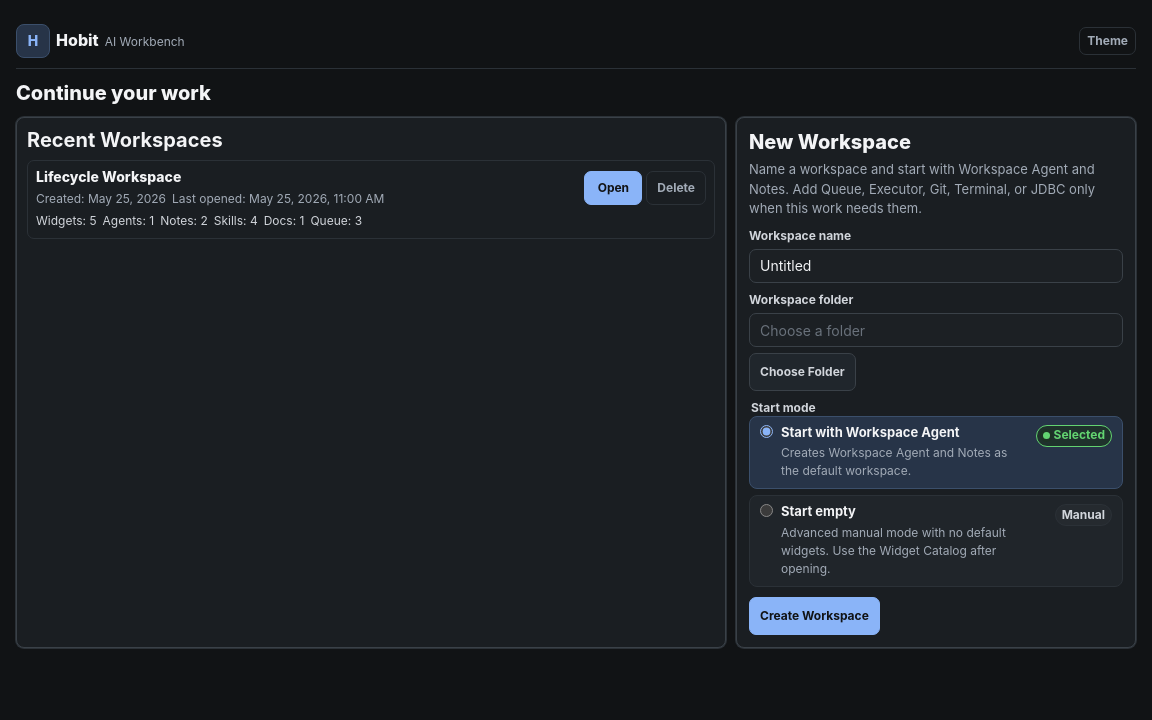
it: App workspace lifecycle › closes an opened workspace back to the start screen without deleting data
Click the button "Open": (613, 188) [584,171,642,205]
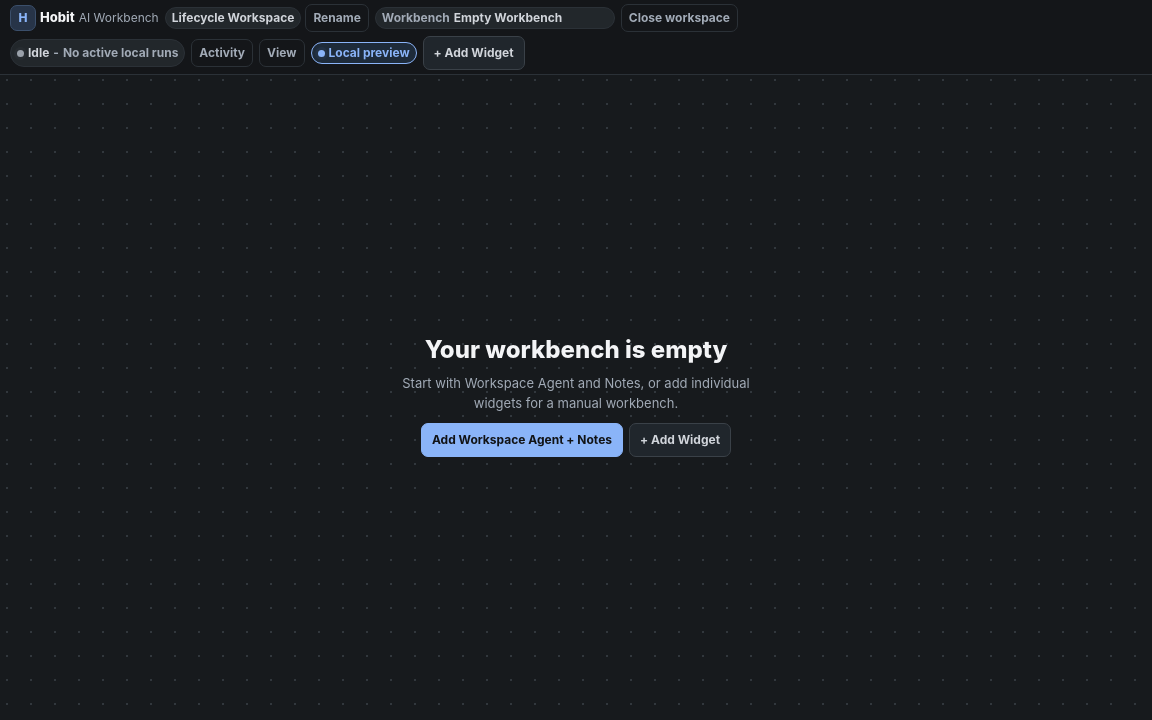
Check: the text "Lifecycle Workspace" is shown, box [172,11,294,25]
Check: the text "Close workspace" is shown
Click the button "Close workspace": (679, 18) [621,4,738,32]
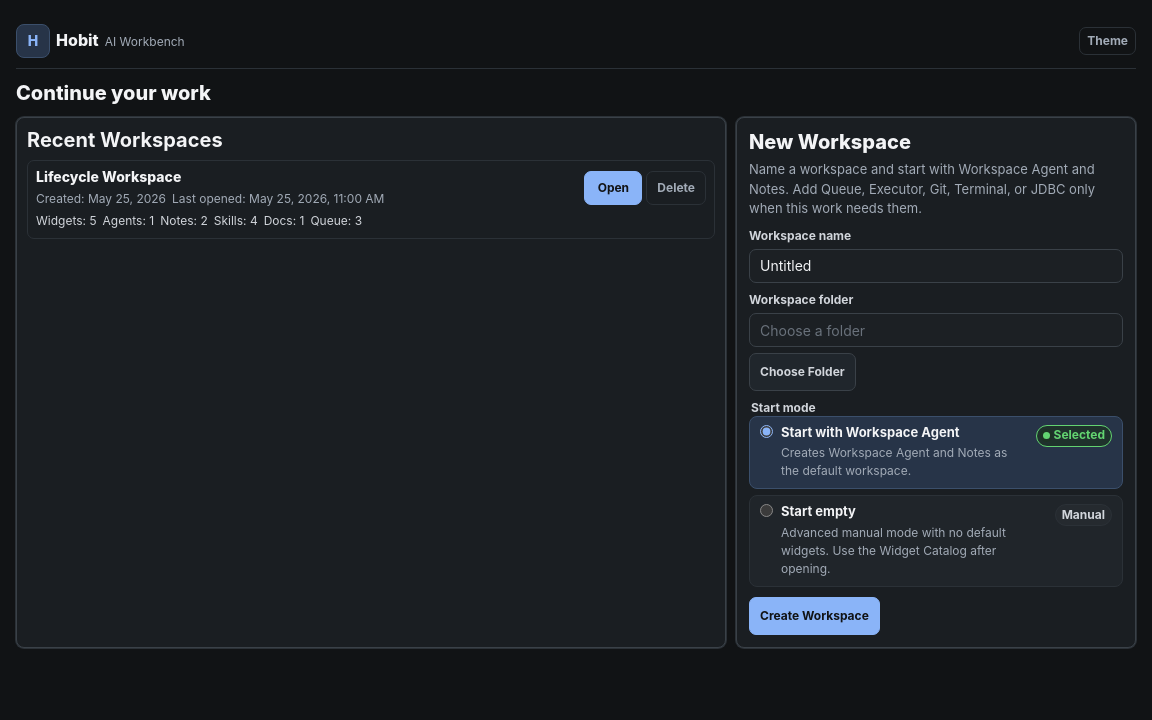
Check: the text "Lifecycle Workspace" is shown, box [36,168,181,185]
Check: the text "New Workspace" is shown, box [749,130,911,154]
